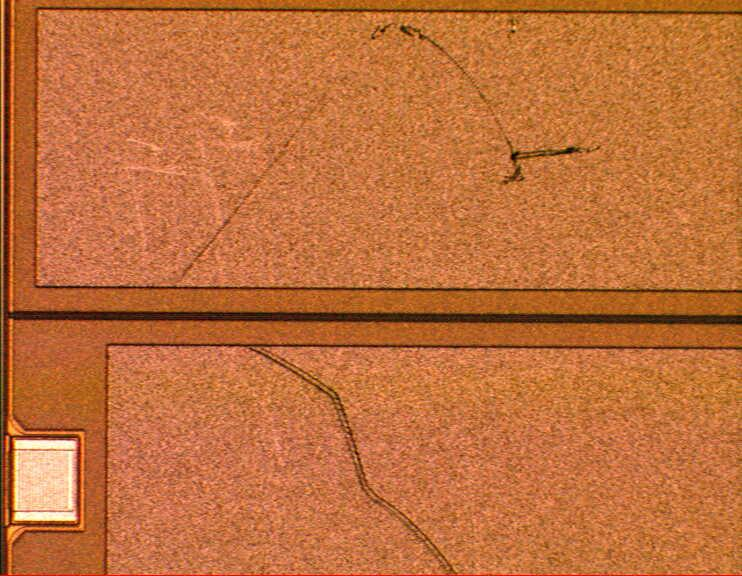SCRATCH: (158, 16, 613, 576)
